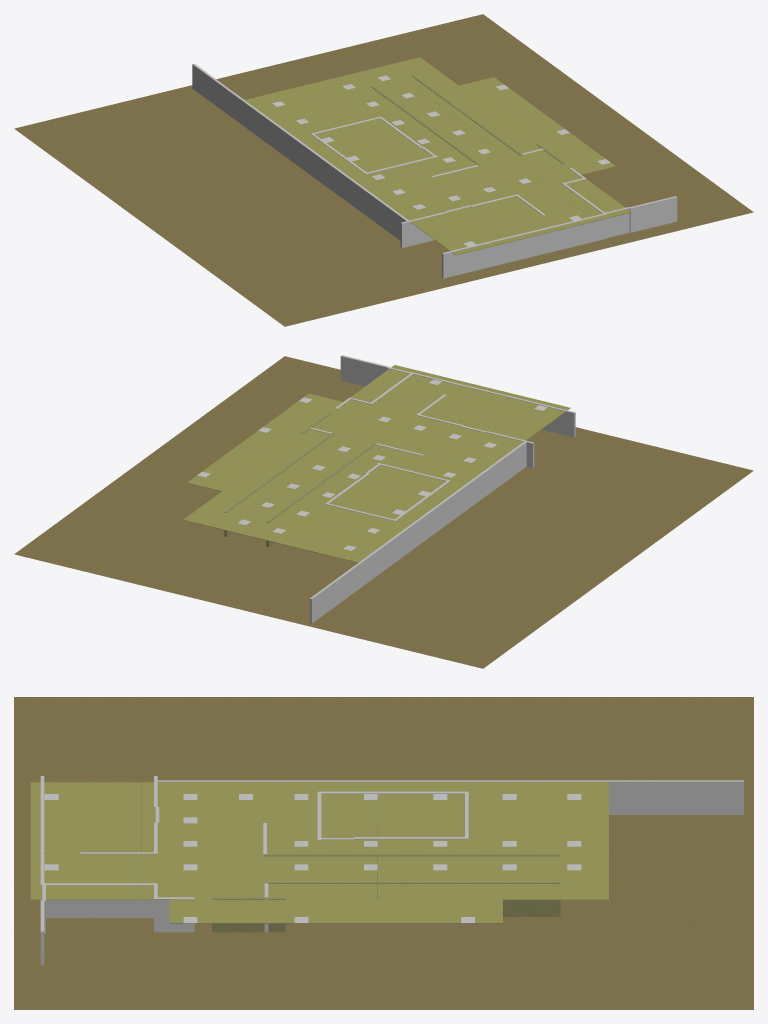
File: backrooms.obj
3 renders of one model, top to bottom at view 1: azimuth 30°, elevation 25°; view 2: azimuth 150°, elevation 25°; view 3: azimuth 270°, elevation 25°, orthographic. The views are drawn at different scales.
Parts seen in each view (by area): view 1: floor.001, floor.003, floor.002, floor, wall1.044, wall1.045, wall1.043, wall1.047, wall1.008, wall1.039, wall1.040, wall1.042 (+3 smaller); view 2: floor.003, floor.001, floor.002, floor, wall1.044, wall1.043; view 3: floor.002, floor.003, floor, floor.001, wall1.054, wall1.055, wall1.056, wall1.053, wall1.035, wall1.037, wall1.001, wall1.038 (+1 smaller).
Boxes of the visible parts, x1,y1,x2,y2 form: floor.001: (150, 185, 518, 326); floor.003: (14, 71, 323, 227); floor.002: (249, 14, 617, 126); floor: (510, 113, 753, 269); wall1.044: (652, 196, 677, 226); wall1.045: (629, 202, 653, 232); wall1.043: (442, 247, 466, 278); wall1.047: (583, 213, 607, 244); wall1.008: (400, 217, 425, 247); wall1.039: (536, 224, 560, 255); wall1.040: (513, 230, 536, 261); wall1.042: (466, 241, 490, 272); floor.003: (249, 527, 617, 668); floor.001: (444, 427, 753, 569); floor.002: (14, 455, 325, 611); floor: (150, 356, 364, 468); wall1.044: (340, 355, 364, 386); wall1.043: (551, 406, 575, 437); floor.002: (384, 853, 753, 1009); floor.003: (384, 697, 753, 853); floor: (14, 853, 383, 1009); floor.001: (14, 697, 383, 853); wall1.054: (633, 780, 670, 814); wall1.055: (670, 780, 707, 814); wall1.056: (707, 780, 743, 814); wall1.053: (596, 780, 633, 814); wall1.035: (117, 883, 153, 918); wall1.037: (80, 883, 116, 918); wall1.001: (157, 897, 194, 932); wall1.038: (43, 883, 80, 918).
Size of the model in its own units: 79.99 by 4.68 by 79.97.
